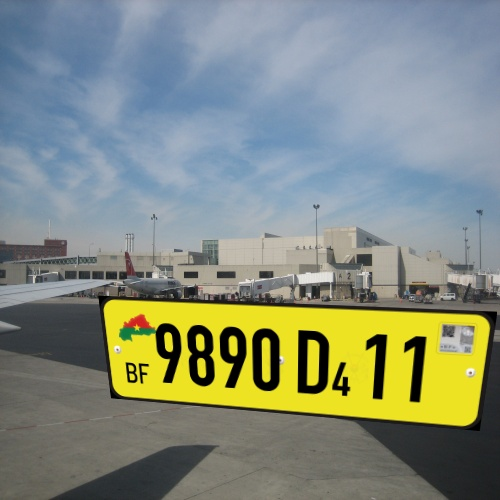plate: (82, 280, 500, 448)
